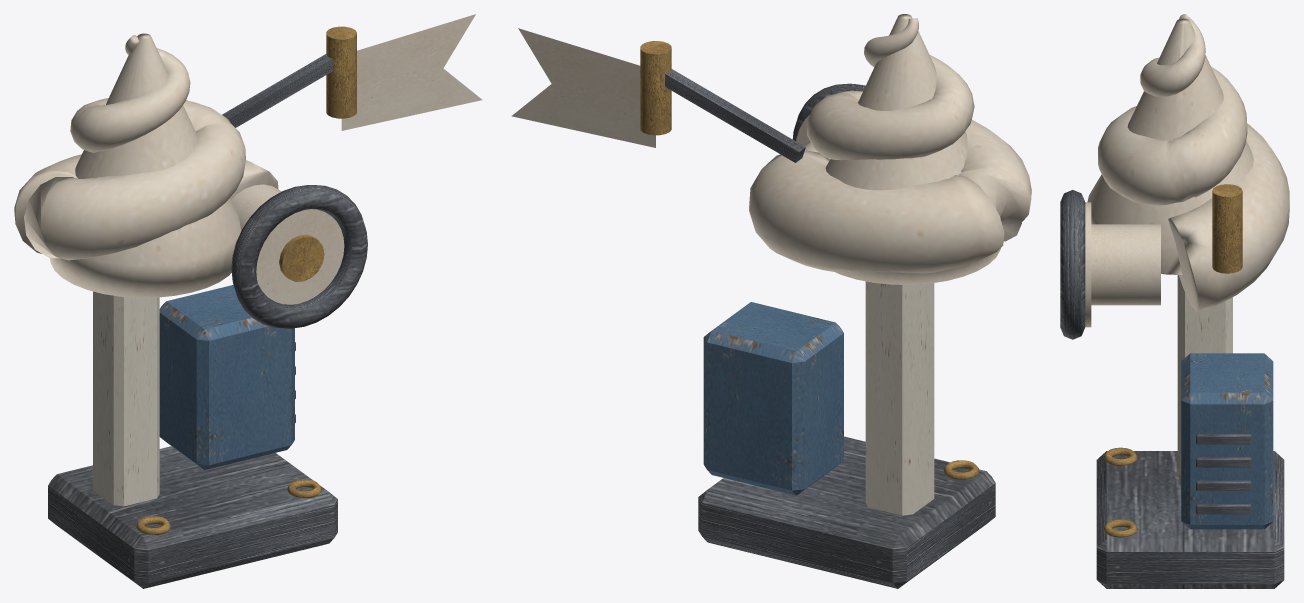
File: revised-08-02.glb
The picture shows the model from 3 angles, left to right: view 1: azimuth 30°, elevation 25°; view 2: azimuth 150°, elevation 25°; view 3: azimuth 270°, elevation 25°; orthographic projection. The views are drawn at different scales.
Visible parts, largest first — view 1: conch_signal; view 2: conch_signal; view 3: conch_signal.
Boxes of the visible parts, x1,y1,x2,y2 form: conch_signal: (14,14,482,588); conch_signal: (511,14,1031,588); conch_signal: (1060,14,1289,588).
Bounding box in the file's own units: 1.45 × 1.5 × 0.6232.
2 materials, 2 textured.
